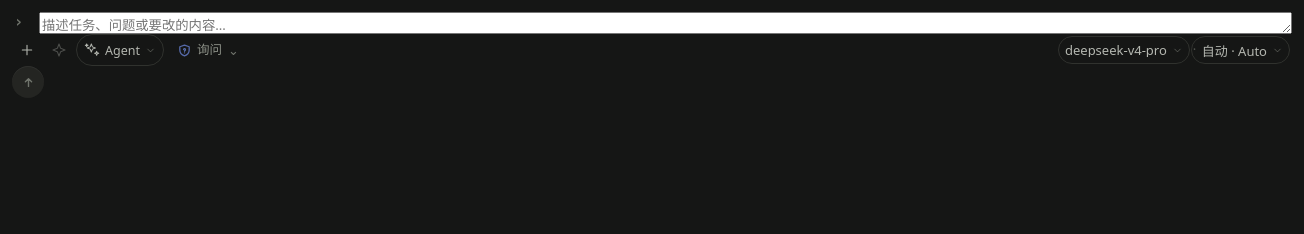
Test: refining a prompt before it is sent › shows the rewrite and replaces the draft only when adopted
Type "修一下那个bug" into the dropdown with placeholder "描述任务、问题或要改的内容…" at (666, 23), box [39,12,1292,34]
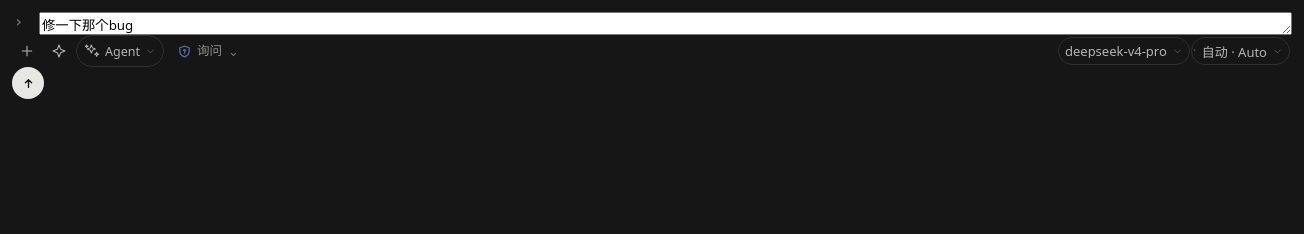
Click the button named "优化提示词" at (58, 51), box [44,36,73,66]
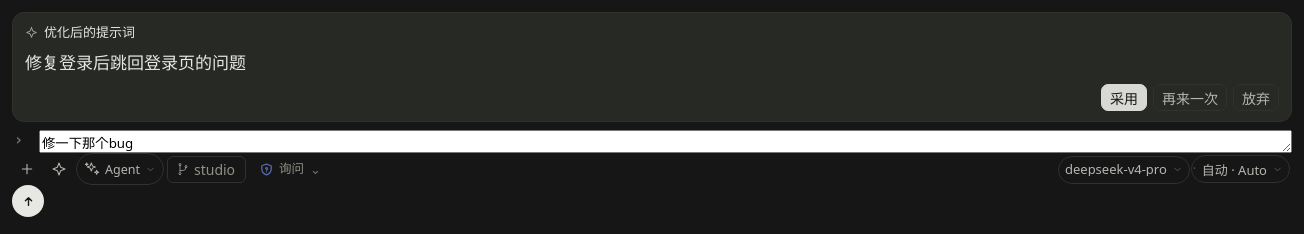
Expected: the text with class "refine-text" reads "修复登录后跳回登录页的问题", [25,51,246,74]
Click the button "采用" at (1124, 98), box [1101,84,1147,111]
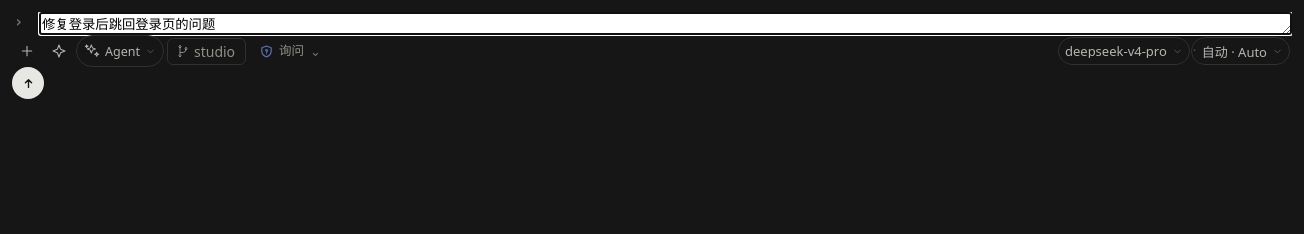
Expected: the dropdown named "任务输入" holds "修复登录后跳回登录页的问题", [39,12,1292,35]
Expected: the element with class "refine-card" is gone
